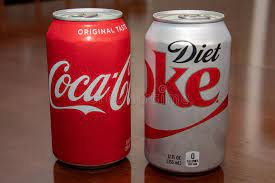can: (145, 8, 230, 171), (46, 6, 130, 165)
